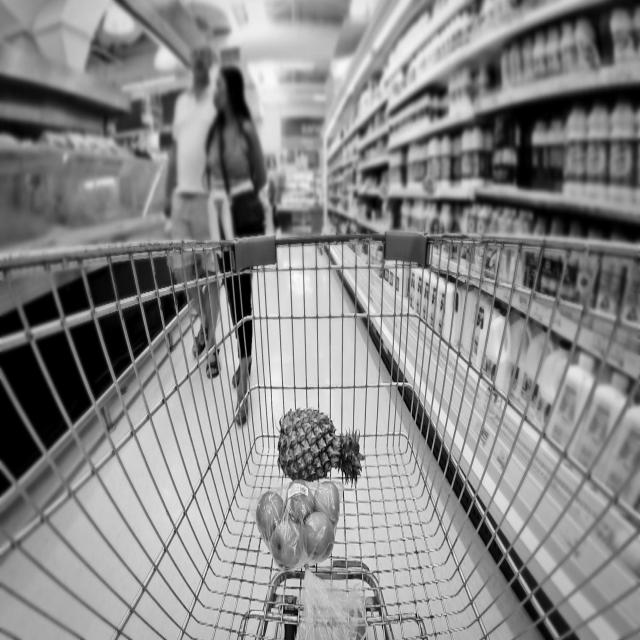apple: (254, 479, 342, 575)
pineapple: (276, 406, 364, 484)
